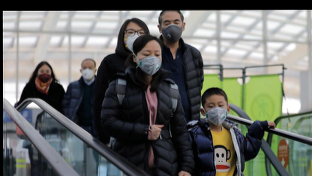with_mask: (134, 46, 163, 77), (203, 98, 230, 126), (158, 16, 184, 43), (122, 25, 146, 52), (80, 63, 97, 81), (36, 66, 52, 84)
